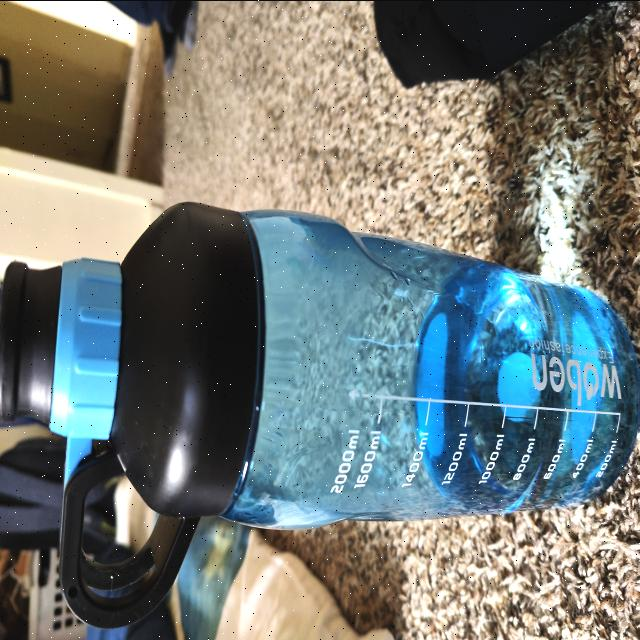bottle: (2, 214, 624, 617)
